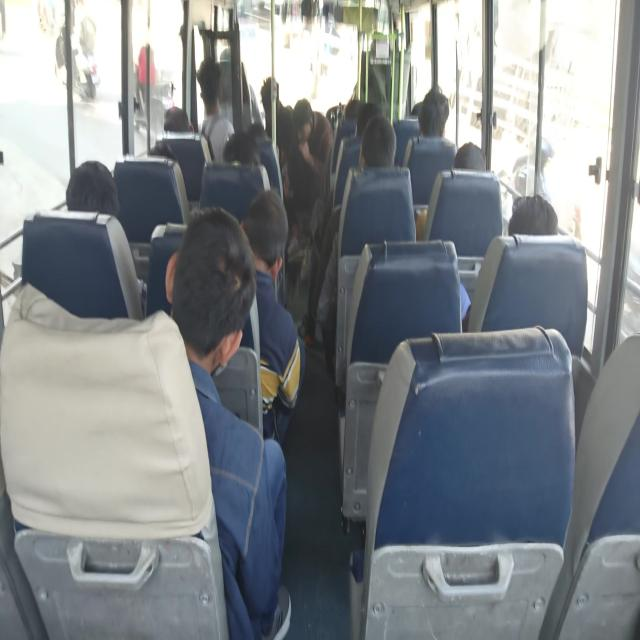person: (164, 206, 292, 638), (314, 115, 398, 375), (238, 189, 306, 444), (461, 193, 558, 331), (65, 159, 146, 317), (196, 58, 234, 164), (218, 47, 263, 129), (291, 98, 333, 177), (65, 159, 120, 217), (512, 135, 553, 199), (508, 193, 558, 236), (418, 86, 450, 138), (453, 141, 487, 171), (163, 106, 193, 132)
